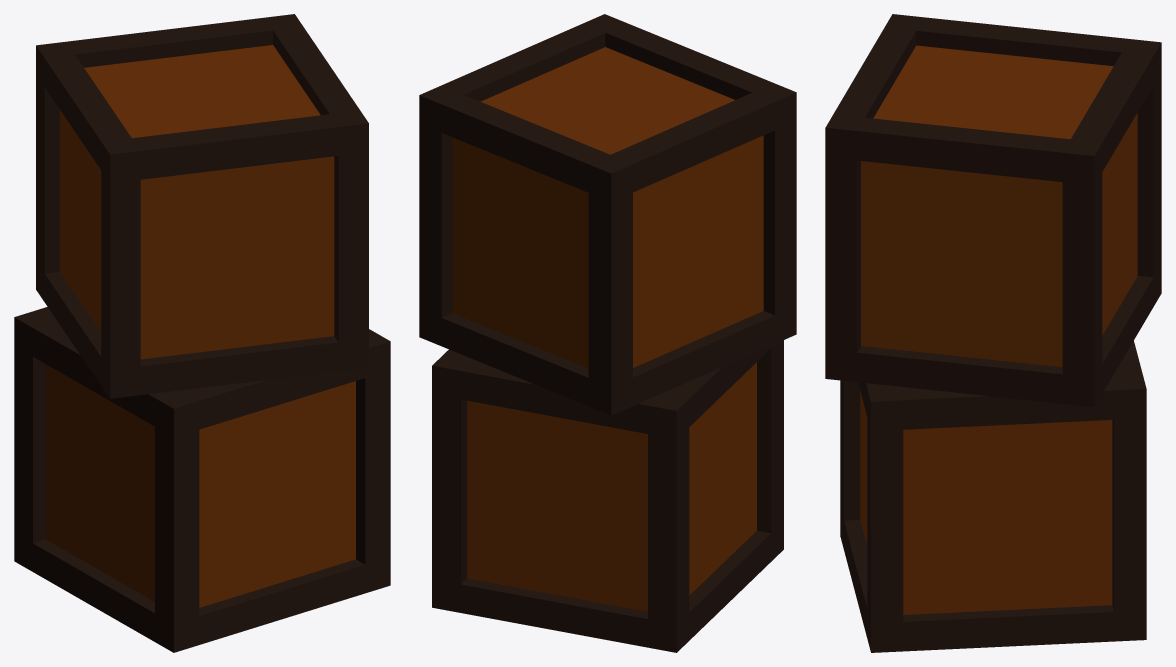
The model's file is Crate Stacked.fbx.
3 renders of one model, left to right at view 1: azimuth 30°, elevation 25°; view 2: azimuth 150°, elevation 25°; view 3: azimuth 270°, elevation 25°, orthographic. The views are drawn at different scales.
Visible parts, largest first — view 1: Crate 002; view 2: Crate 002; view 3: Crate 002.
Boxes of the visible parts, bbox=[...] form: Crate 002: bbox=[14, 14, 390, 652]; Crate 002: bbox=[419, 14, 796, 652]; Crate 002: bbox=[825, 14, 1161, 652].
Size of the model in its own units: 31.92 by 52.75 by 31.92.
